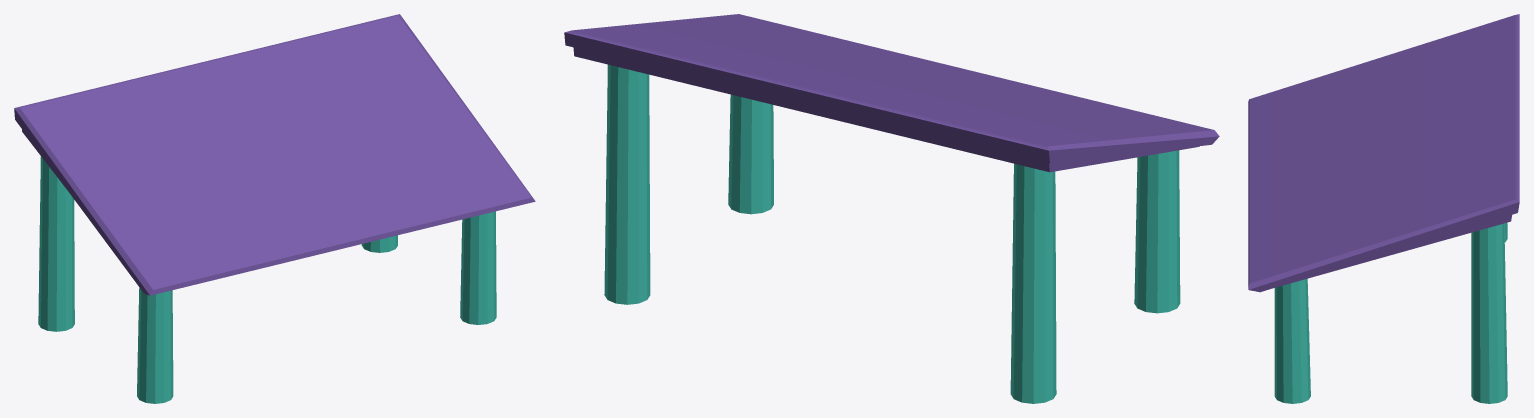
The model's file is model_SmallStorage_low.fbx.
3 views of the same model, side by side, from view 1: azimuth 30°, elevation 25°; view 2: azimuth 150°, elevation 25°; view 3: azimuth 270°, elevation 25° (orthographic). The views are drawn at different scales.
Parts seen in each view (by area): view 1: pasted__pCube30, pasted__house_pilar17, pasted__house_pilar15, pasted__house_pilar5; view 2: pasted__pCube30, pasted__house_pilar4, pasted__house_pilar17, pasted__house_pilar15, pasted__house_pilar5; view 3: pasted__pCube30, pasted__house_pilar4, pasted__house_pilar5.
Part boxes in pixels (<box>): pasted__pCube30: <box>14,14,535,295</box>; pasted__house_pilar17: <box>38,156,74,331</box>; pasted__house_pilar15: <box>137,287,173,403</box>; pasted__house_pilar5: <box>460,211,496,324</box>; pasted__pCube30: <box>564,14,1219,172</box>; pasted__house_pilar4: <box>604,64,650,304</box>; pasted__house_pilar17: <box>1010,163,1056,403</box>; pasted__house_pilar15: <box>1134,150,1180,313</box>; pasted__house_pilar5: <box>728,94,773,214</box>; pasted__pCube30: <box>1248,14,1519,292</box>; pasted__house_pilar4: <box>1471,223,1507,403</box>; pasted__house_pilar5: <box>1274,278,1310,403</box>.
Size of the model in its own units: 139 by 73.07 by 84.8.
